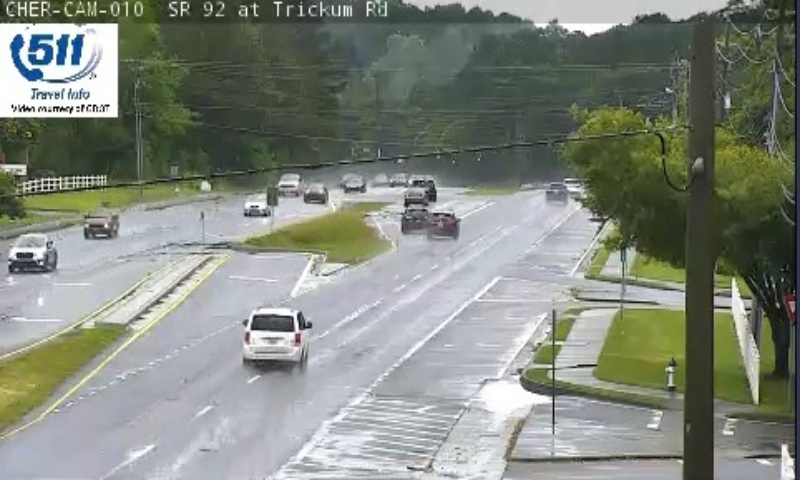car: (243, 308, 307, 357), (401, 203, 433, 232), (428, 211, 459, 236)
